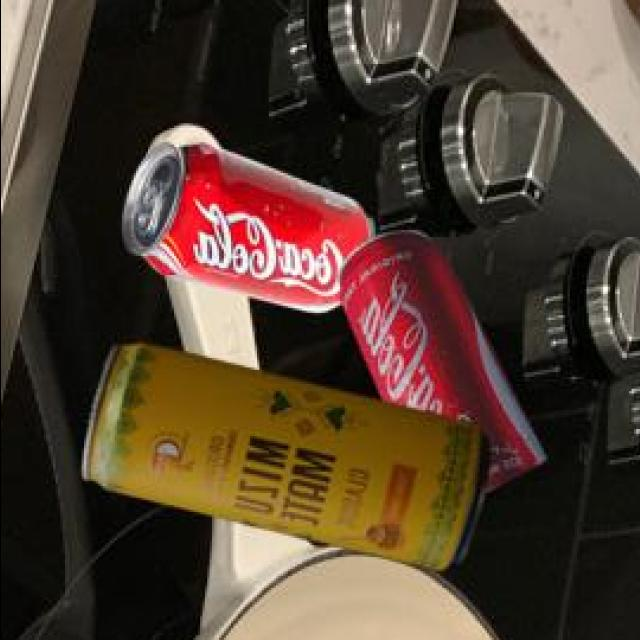logam: (84, 347, 492, 575), (343, 233, 549, 497), (127, 146, 376, 316)
